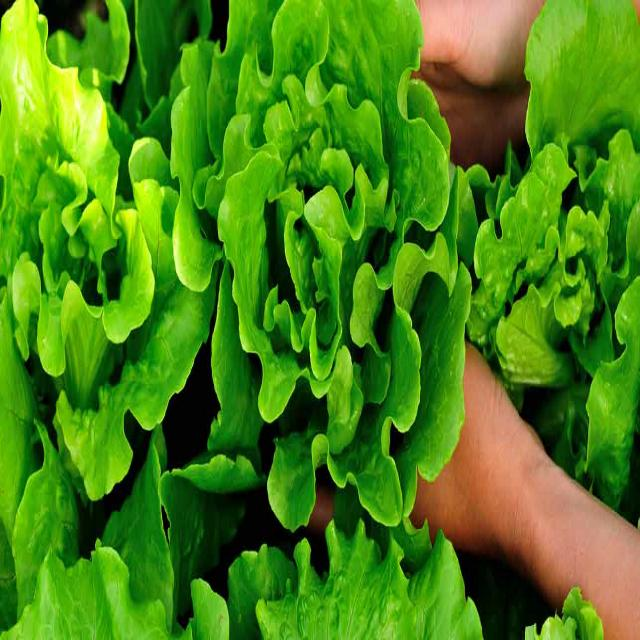lettuce: (172, 0, 458, 477), (0, 11, 166, 542), (481, 41, 640, 424)
